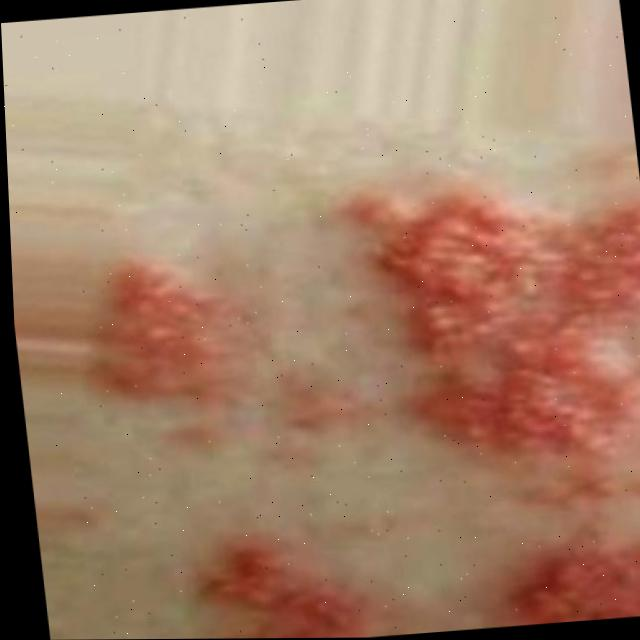Shingles: (333, 171, 640, 458), (74, 262, 249, 406), (205, 547, 365, 639), (493, 529, 640, 626)
